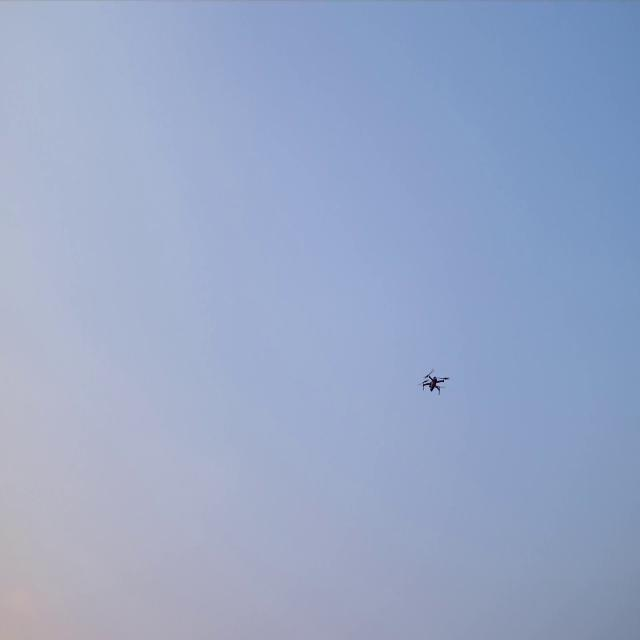UAV: (415, 366, 450, 398)
